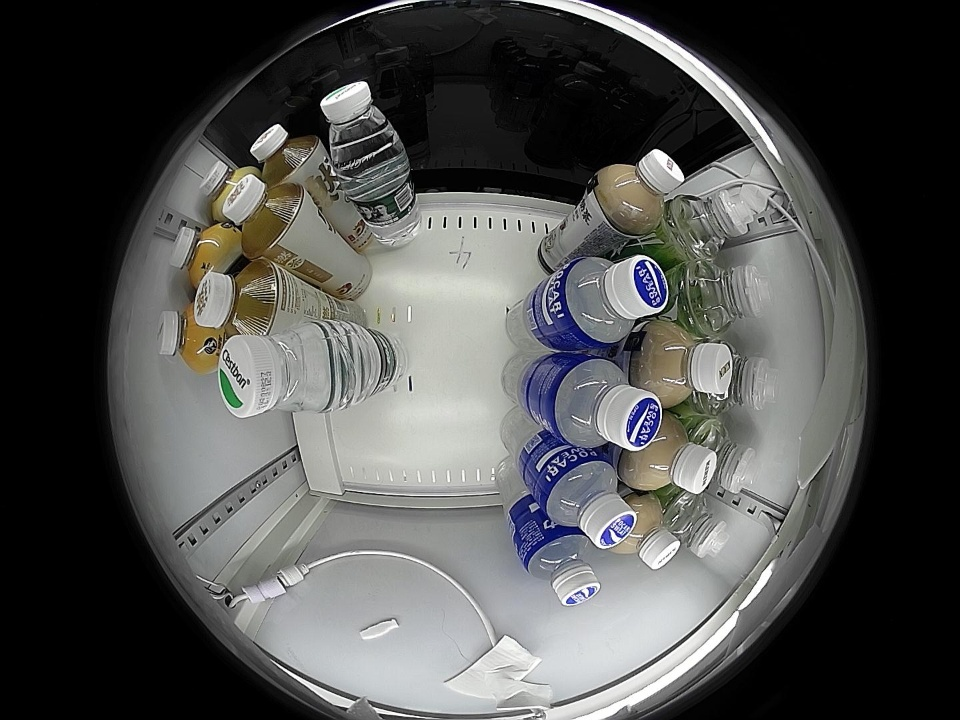asamu: (156, 304, 219, 372), (170, 223, 233, 284), (199, 161, 249, 218)
baokuangli: (552, 252, 670, 349), (547, 355, 662, 452), (539, 449, 637, 549), (519, 526, 601, 607)
jianjiao: (685, 261, 771, 336), (673, 189, 752, 261), (706, 338, 780, 414), (694, 418, 758, 495), (665, 489, 731, 561)
rancha-2: (222, 174, 306, 259), (194, 261, 285, 337), (249, 123, 322, 186)
wuhounaicha: (619, 415, 717, 495), (640, 325, 732, 408), (597, 148, 685, 233), (612, 493, 681, 570)
yibao: (219, 321, 343, 417), (319, 80, 407, 175)
